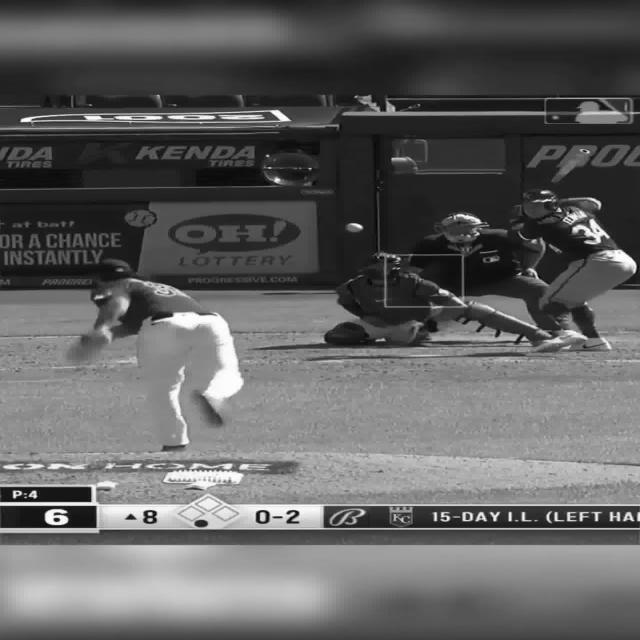baseball: (345, 223, 363, 233)
baseball_glove: (385, 322, 423, 342)
bat: (550, 148, 590, 184)
shoe: (530, 329, 587, 352), (200, 392, 229, 425), (563, 336, 611, 352), (160, 444, 187, 452)
